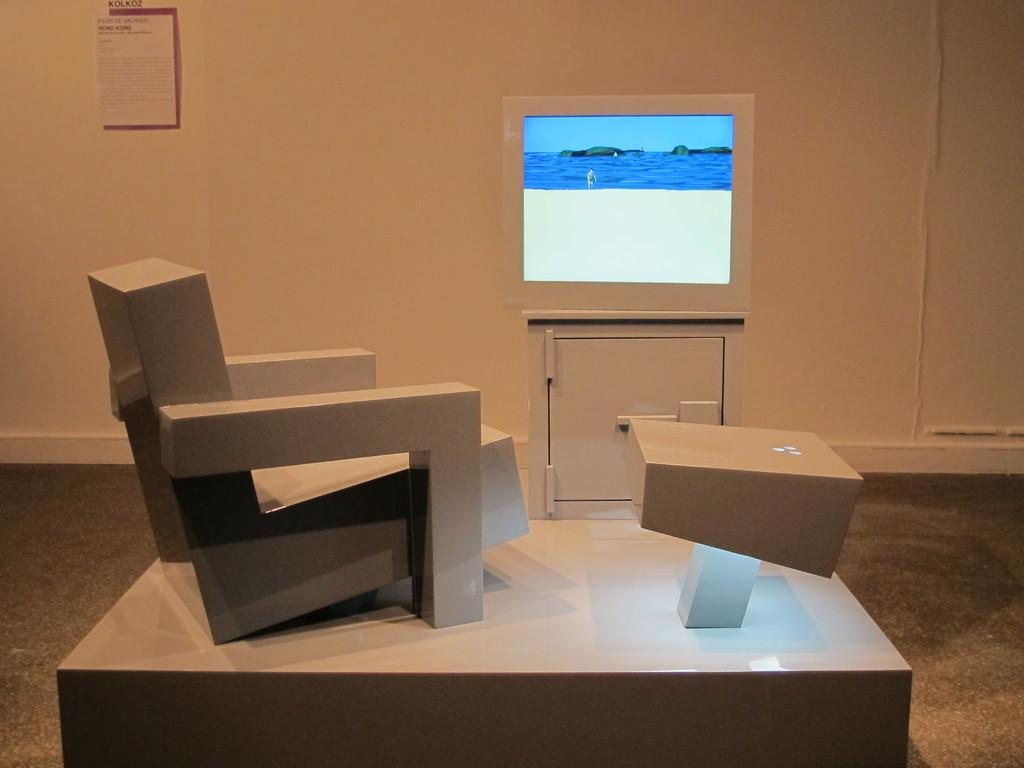Chair: (110, 291, 510, 630)
